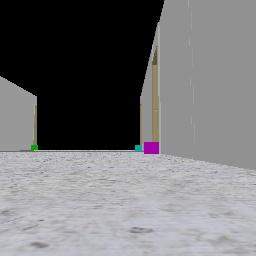mov: (144, 142, 158, 153)
turcoaz: (135, 145, 141, 151)
verde: (31, 145, 37, 150)
